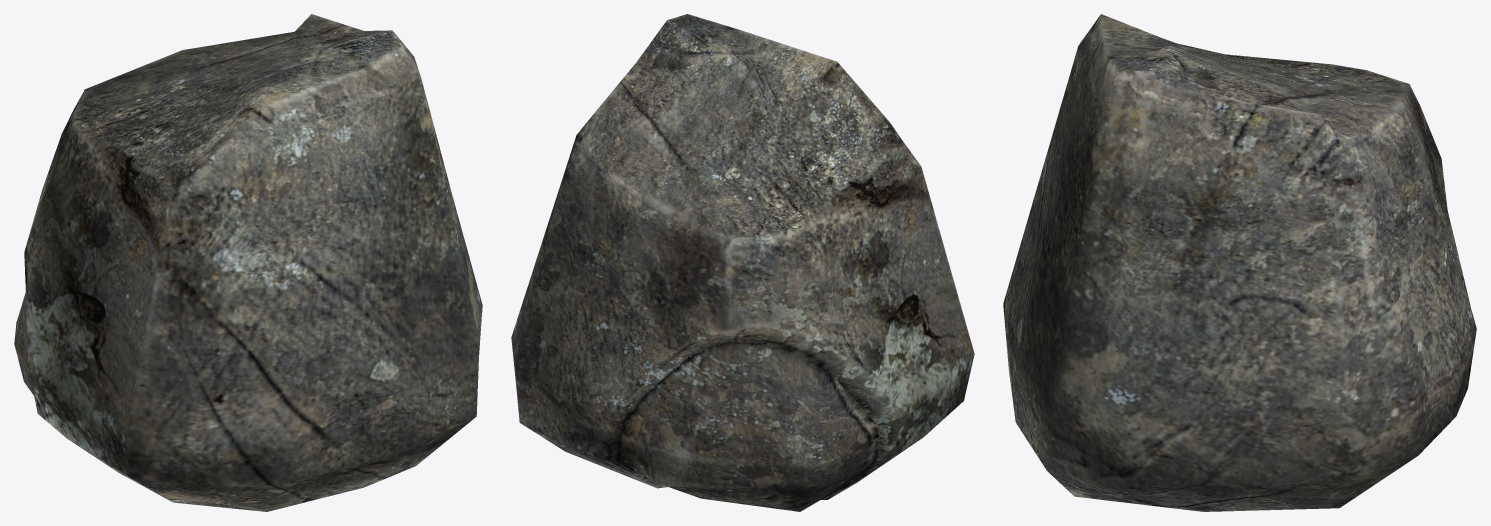
Rendered from SM_Rock03.FBX.
3 renders of one model, left to right at view 1: azimuth 30°, elevation 25°; view 2: azimuth 150°, elevation 25°; view 3: azimuth 270°, elevation 25°, orthographic. The views are drawn at different scales.
Parts seen in each view (by area): view 1: SM_Rock03; view 2: SM_Rock03; view 3: SM_Rock03.
Part boxes in pixels (box(x1,y1,x2,y2)): SM_Rock03: box(14, 14, 482, 511); SM_Rock03: box(511, 14, 974, 511); SM_Rock03: box(1003, 14, 1476, 511).
Size of what is drawn, in the model's own units: 161 by 160 by 167.
